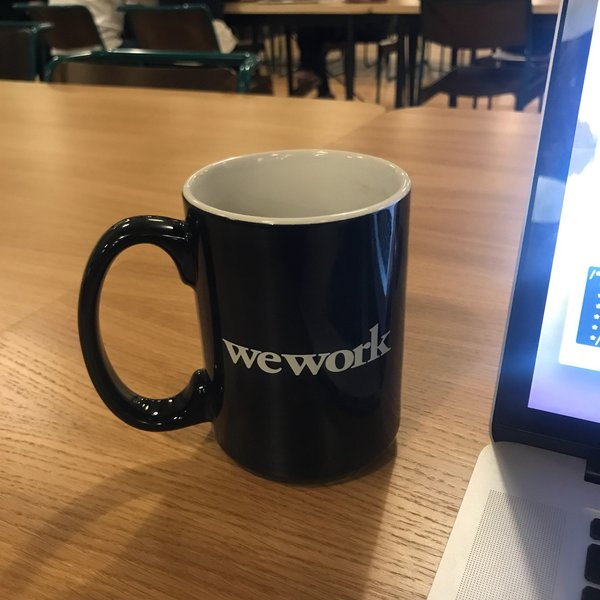wework: (218, 319, 394, 379)
